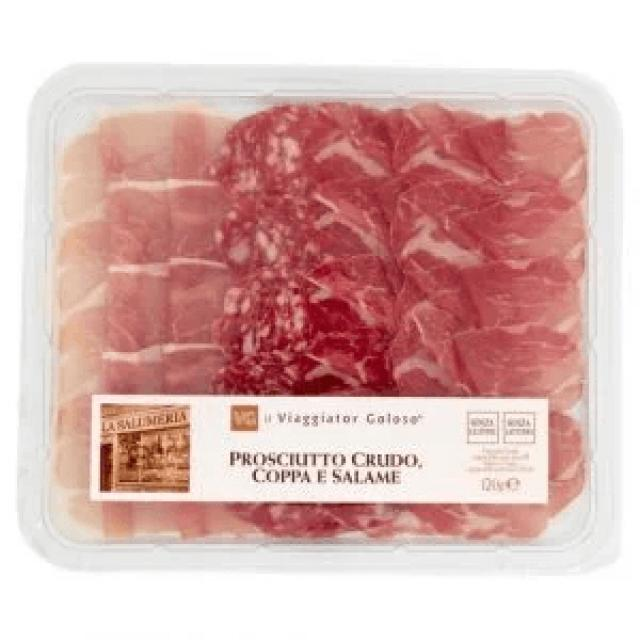Ham: (28, 64, 621, 578)
